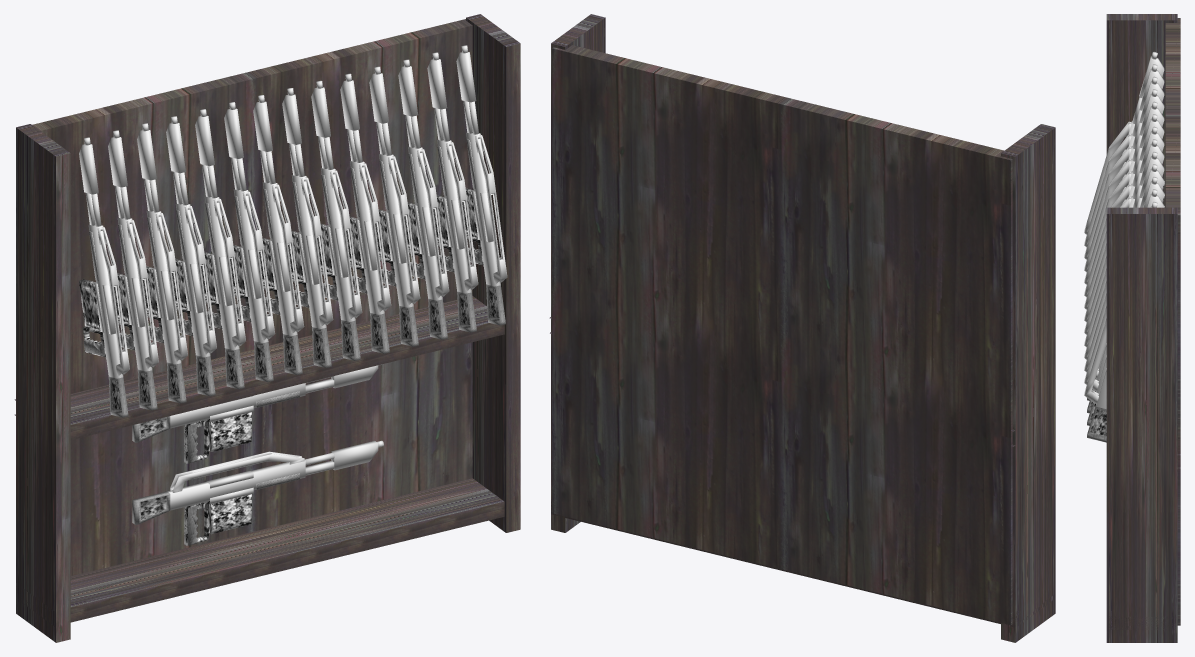
The model's file is weapon rack 03.fbx.
3 views of the same model, side by side, from view 1: azimuth 30°, elevation 25°; view 2: azimuth 150°, elevation 25°; view 3: azimuth 270°, elevation 25° (orthographic). The views are drawn at different scales.
Visible parts, largest first — view 1: weapon rack 03; view 2: weapon rack 03; view 3: weapon rack 03.
Boxes of the visible parts, left/top/right/bottom form: weapon rack 03: left=14, top=14, right=520, bottom=642; weapon rack 03: left=549, top=14, right=1055, bottom=642; weapon rack 03: left=1084, top=14, right=1180, bottom=642.
Bounding box in the file's own units: 1600 × 1600 × 325.
